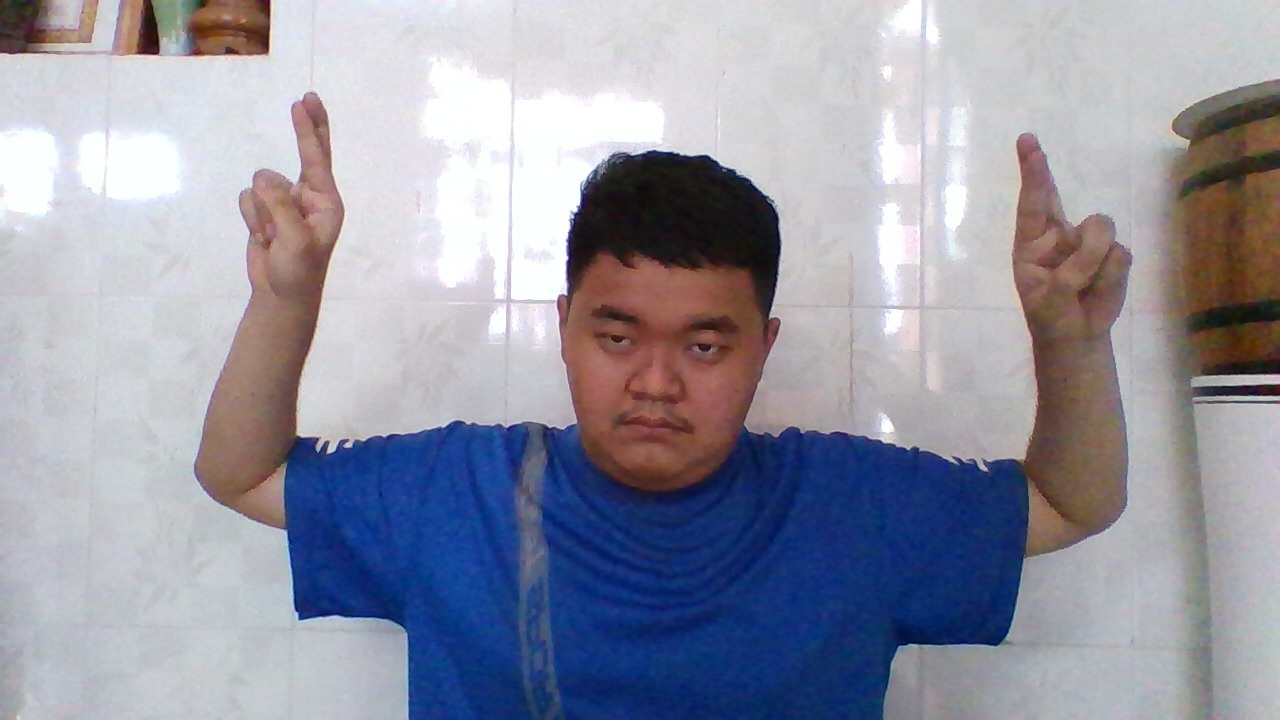R: (1009, 125, 1135, 361), (230, 85, 340, 311)
